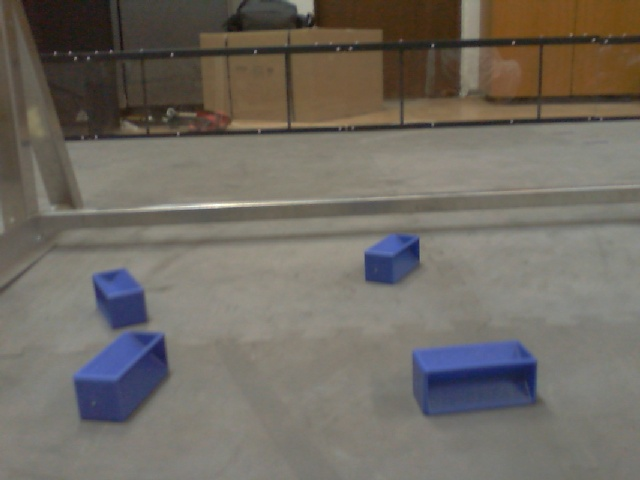BlueSample: (405, 336, 538, 417), (71, 327, 182, 413), (354, 227, 422, 286), (92, 265, 148, 328)
